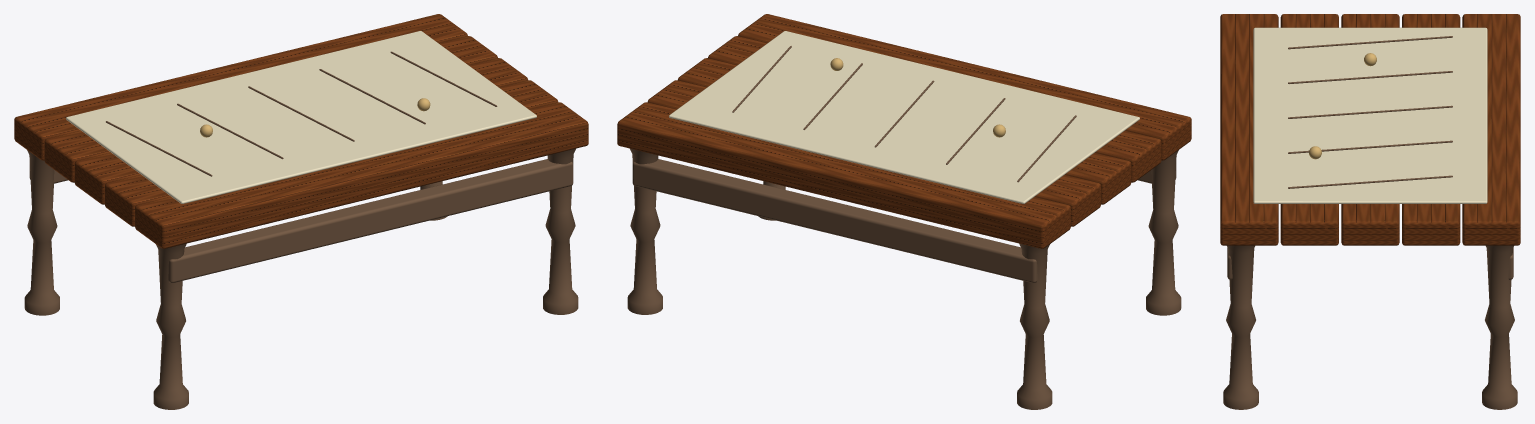
The model's file is adventurers-tavern-and-guild-hall-map-table-de6c37d2__24742.glb.
3 renders of one model, left to right at view 1: azimuth 30°, elevation 25°; view 2: azimuth 150°, elevation 25°; view 3: azimuth 270°, elevation 25°, orthographic.
Visible parts, largest first — view 1: map-table; view 2: map-table; view 3: map-table.
Part boxes in pixels (left/top/right/bottom): map-table: left=14, top=14, right=588, bottom=409; map-table: left=617, top=14, right=1191, bottom=409; map-table: left=1220, top=14, right=1520, bottom=409.
Bounding box in the file's own units: 1.8 × 0.829 × 1.09.
4 materials, 1 textured.
